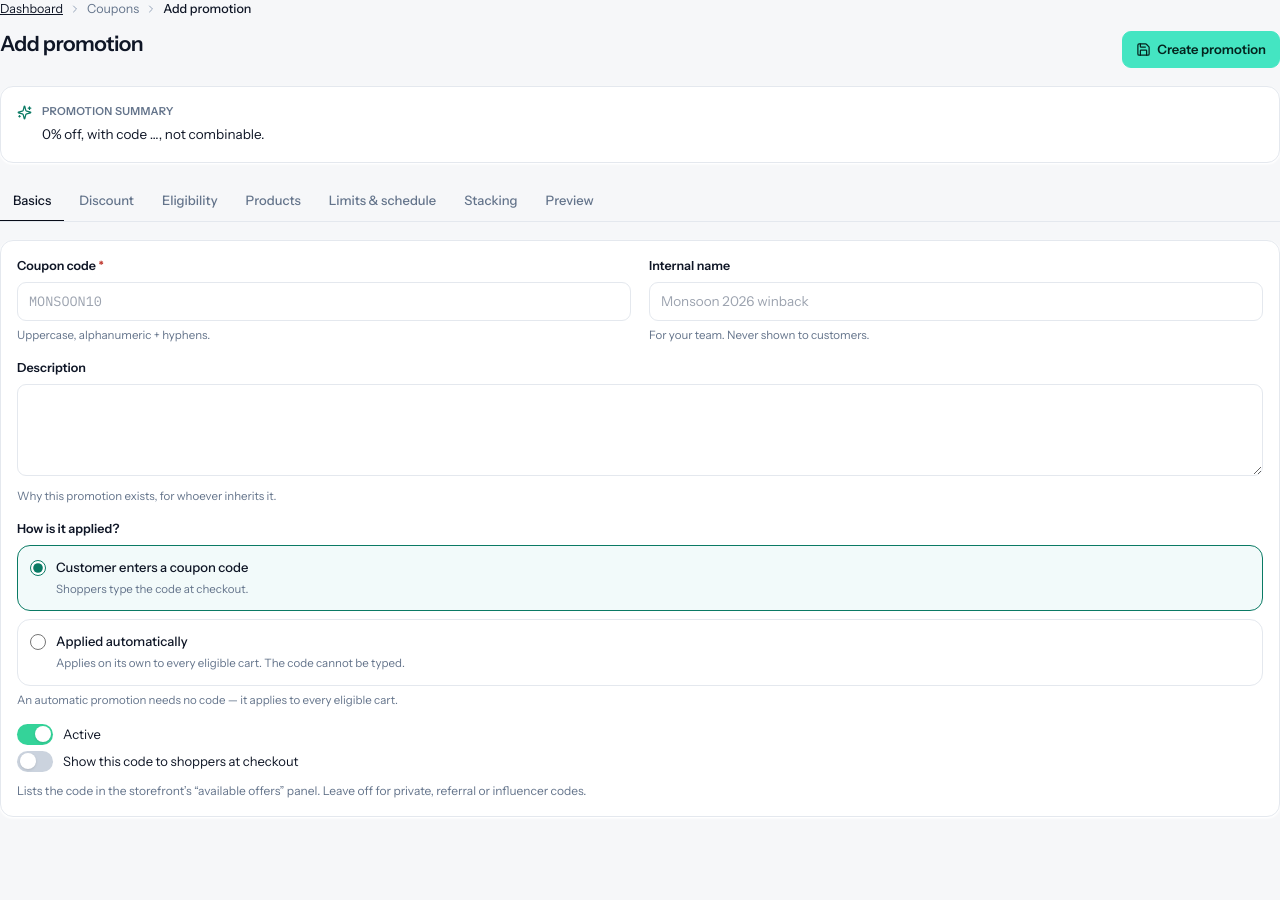
Test: CouponEditor Preview Tab - Interactive Dry-Run › allows testing unsaved promotions without saving first
Note: Switch to Preview tab
Click the button "Preview" at (570, 201), box [533,181,607,222]
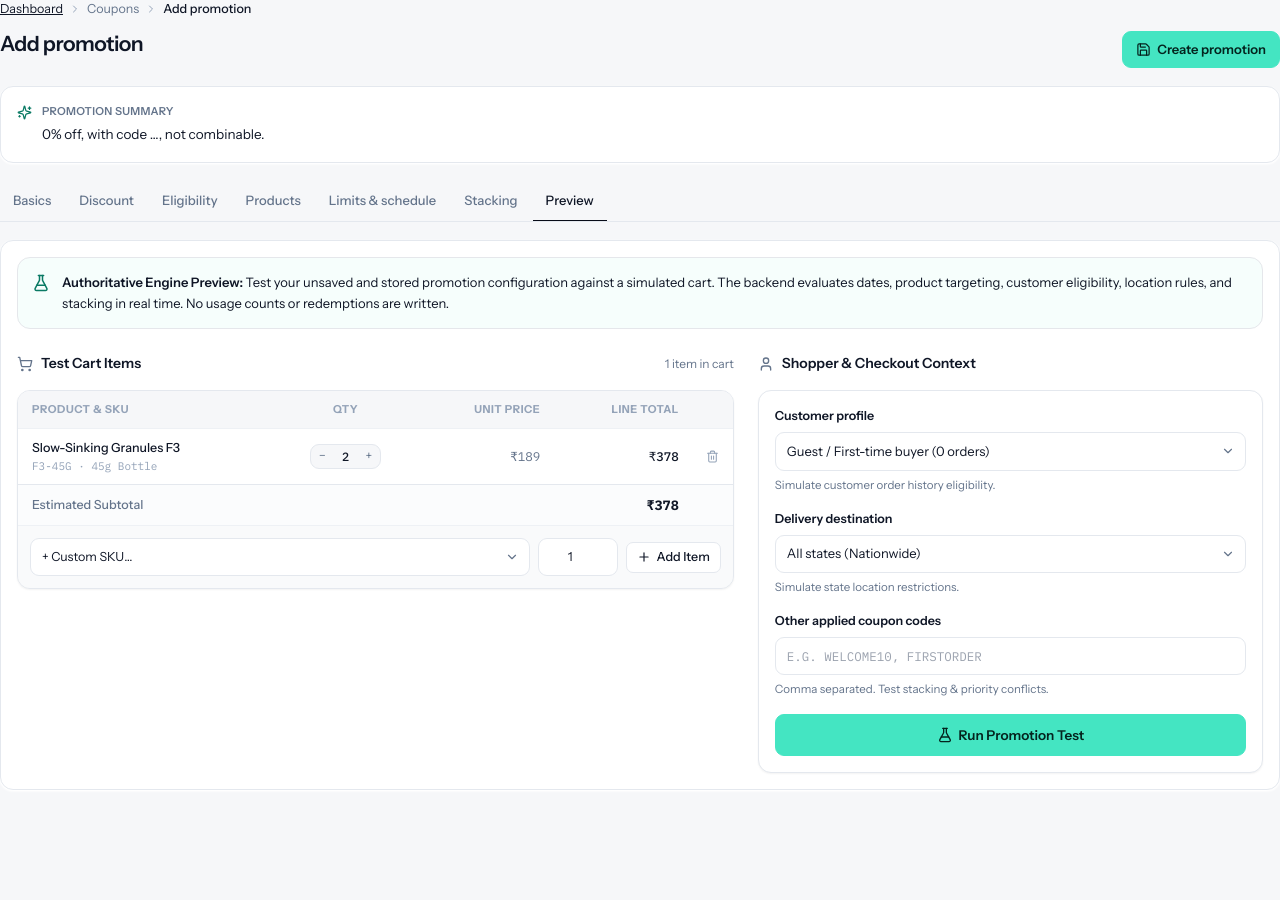
Expected: the heading "Test Cart Items" is shown, [17,353,141,374]
Expected: the heading "Shopper & Checkout Context" is shown, [758,354,976,372]
Note: Click "Run Promotion Test"
Click the button "Run Promotion Test" at (1010, 735), box [775,714,1246,756]
(page scrolled)
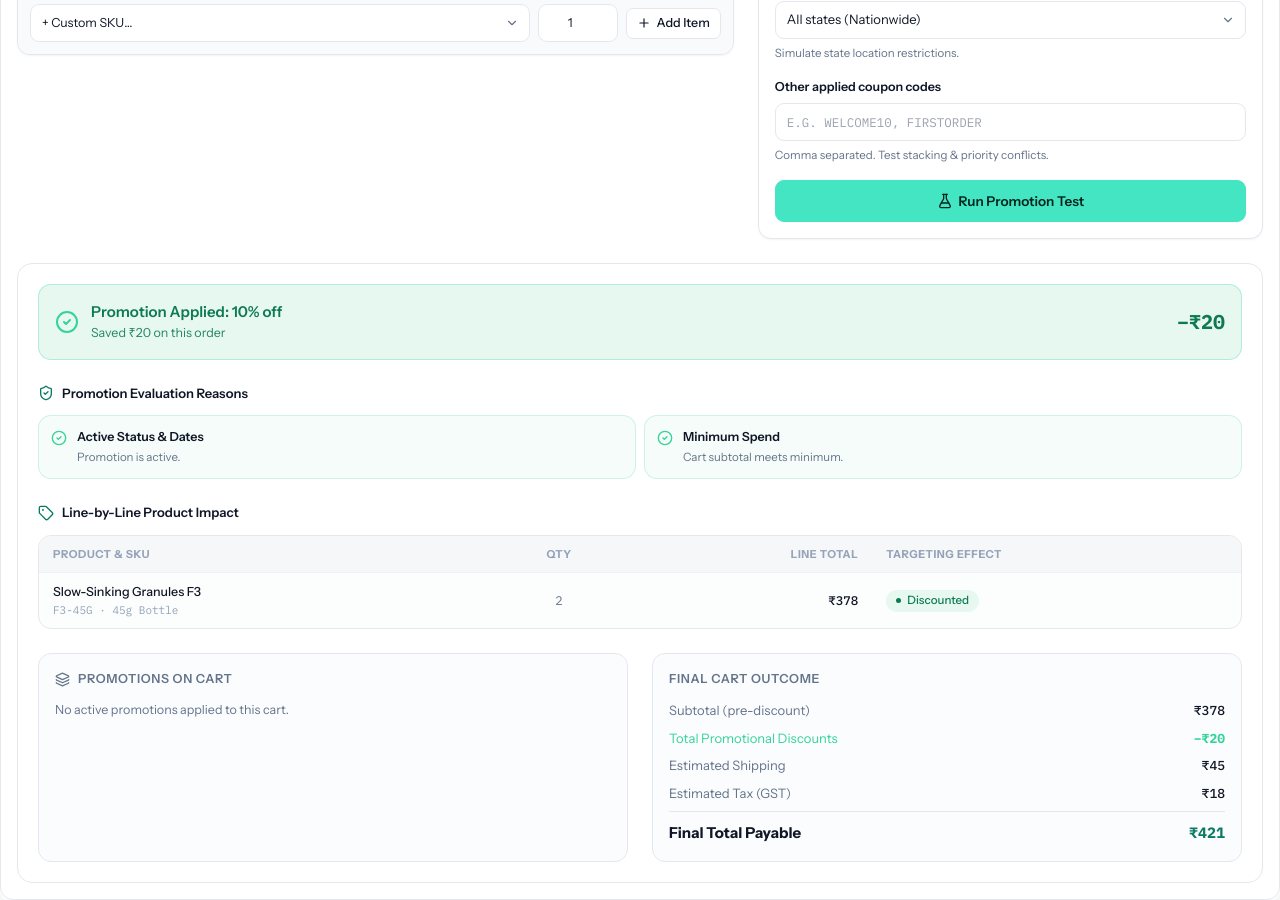
Expected: the text "Promotion Applied: 10% off" is shown, [91,301,282,324]
Expected: the text "Active Status & Dates" is shown, [77,429,204,444]
Expected: the text "Cart subtotal meets minimum." is shown, [683,450,843,464]
